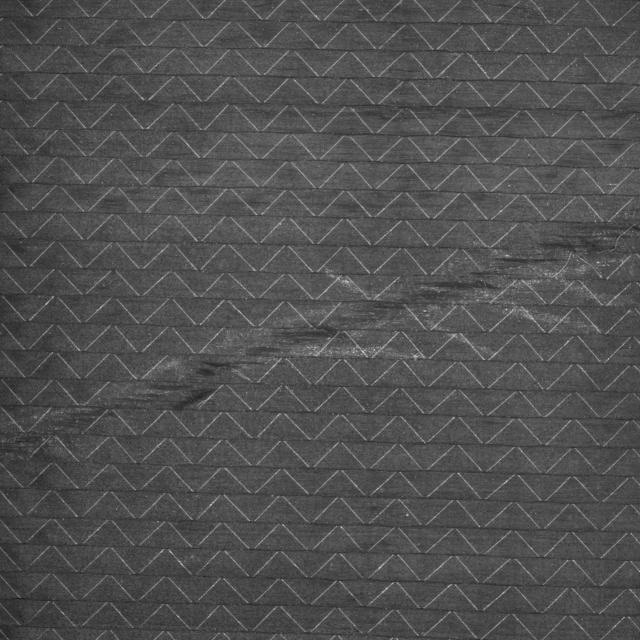carbon-fibre-defect: (2, 208, 640, 466)
